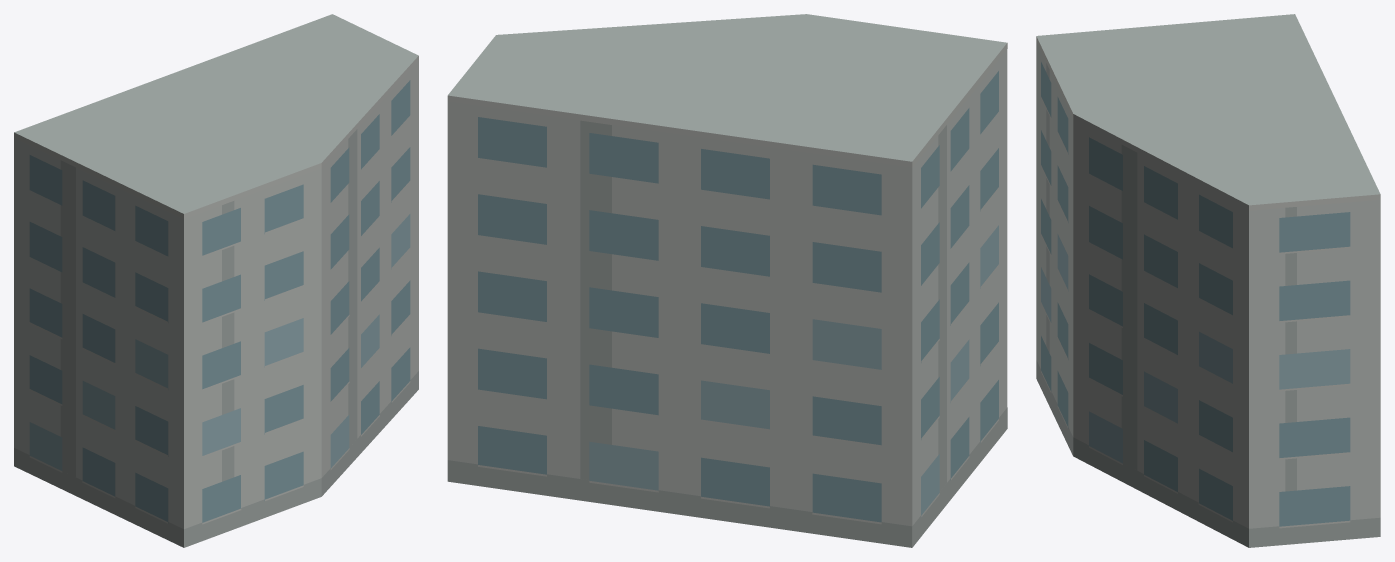
File: residential-4f443973-6705-4ee4-8d37-7f6d4522aeba.glb
3 views of the same model, side by side, from view 1: azimuth 30°, elevation 25°; view 2: azimuth 150°, elevation 25°; view 3: azimuth 270°, elevation 25° (orthographic). The views are drawn at different scales.
Visible parts, largest first — view 1: residential-4f443973-6705-4ee4-8d37-7f6d4522aeba.tmp; view 2: residential-4f443973-6705-4ee4-8d37-7f6d4522aeba.tmp; view 3: residential-4f443973-6705-4ee4-8d37-7f6d4522aeba.tmp.
Part boxes in pixels (box(x1,y1,x2,y2)): residential-4f443973-6705-4ee4-8d37-7f6d4522aeba.tmp: box(14, 14, 418, 547); residential-4f443973-6705-4ee4-8d37-7f6d4522aeba.tmp: box(447, 14, 1007, 547); residential-4f443973-6705-4ee4-8d37-7f6d4522aeba.tmp: box(1036, 14, 1380, 547).
Size of the model in its own units: 18.28 by 15.25 by 13.9.
